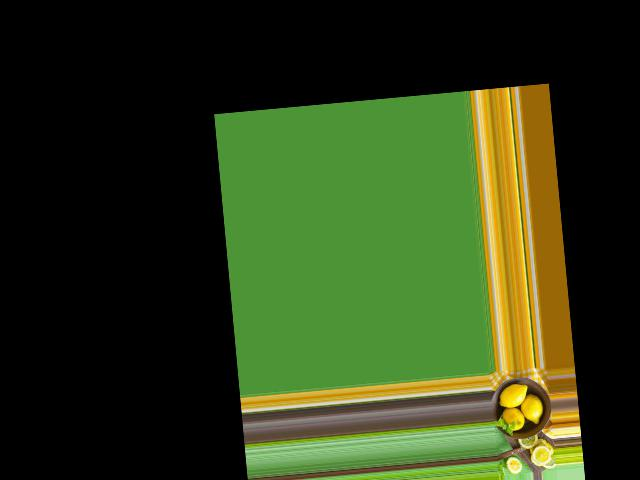lemon: (494, 379, 531, 411)
